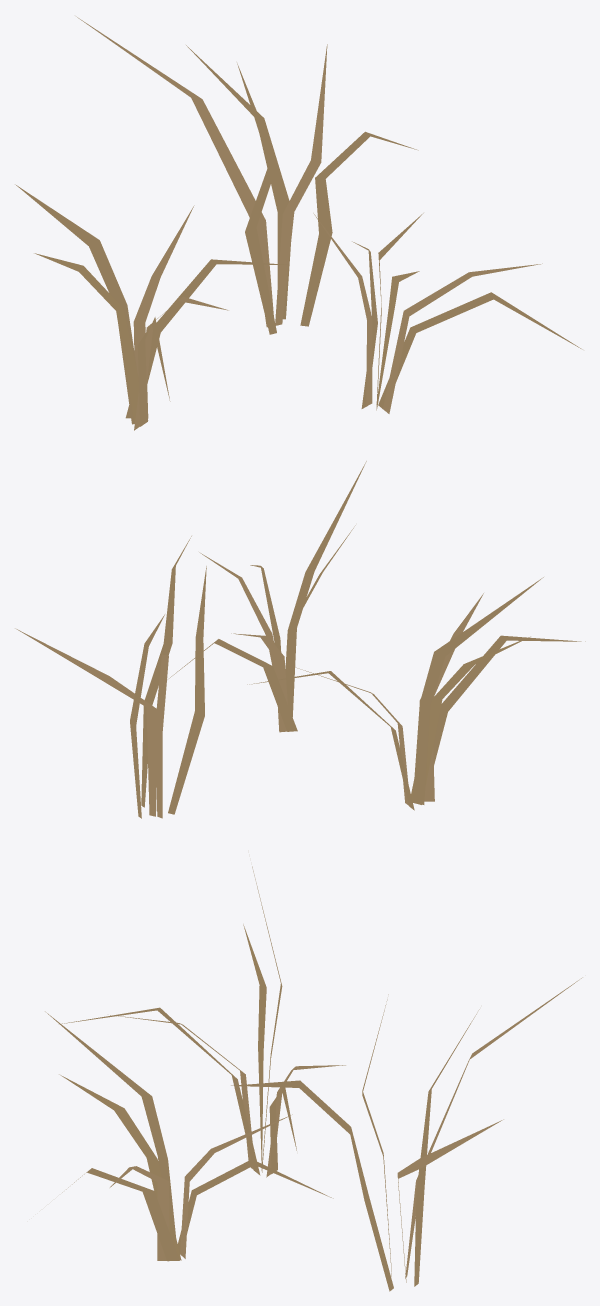
File: Grass_f_TwoS_05.fbx
3 views of the same model, one above another, from view 1: azimuth 30°, elevation 25°; view 2: azimuth 150°, elevation 25°; view 3: azimuth 270°, elevation 25° (orthographic). The views are drawn at different scales.
Parts seen in each view (by area): view 1: Grass_f_TwoS_05; view 2: Grass_f_TwoS_05; view 3: Grass_f_TwoS_05.
Part boxes in pixels (x1,y1,x2,y2): Grass_f_TwoS_05: (15, 16, 582, 430); Grass_f_TwoS_05: (15, 461, 585, 818); Grass_f_TwoS_05: (45, 866, 582, 1291).
Bounding box in the file's own units: 0.7129 × 0.4301 × 0.8159.
